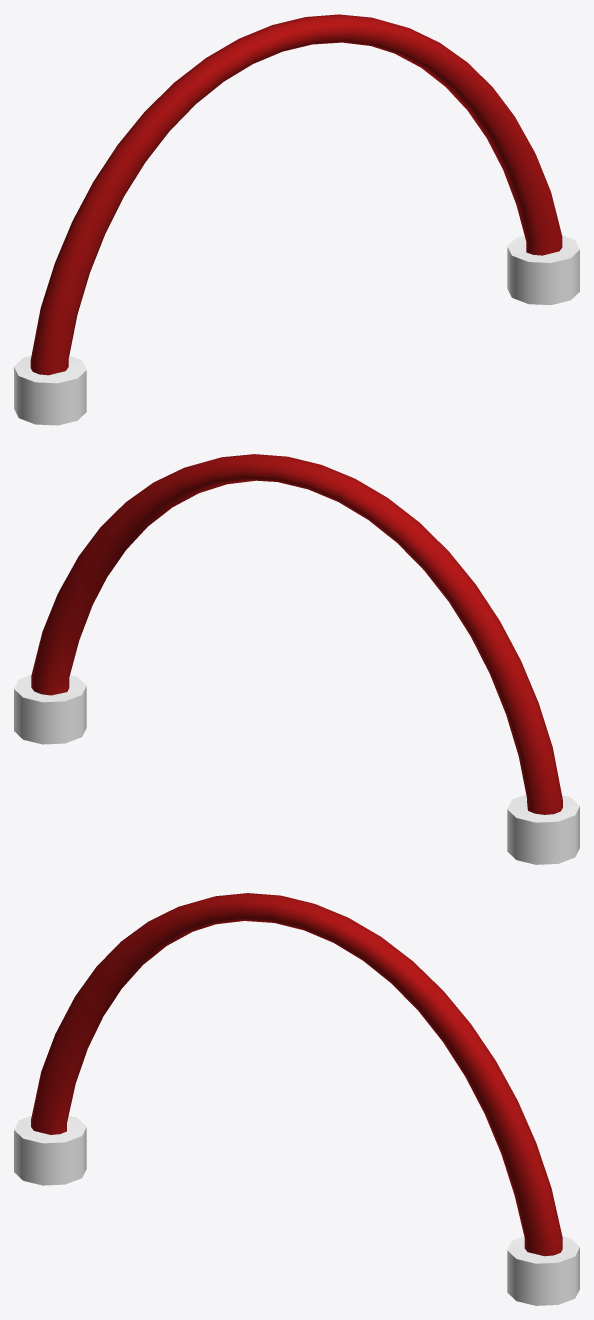
File: SM_ArchObstacle.fbx
3 renders of one model, top to bottom at view 1: azimuth 30°, elevation 25°; view 2: azimuth 150°, elevation 25°; view 3: azimuth 330°, elevation 25°, orthographic.
Parts seen in each view (by area): view 1: Cylinder002; view 2: Cylinder002; view 3: Cylinder002.
Boxes of the visible parts, x1,y1,x2,y2 form: Cylinder002: [14, 14, 579, 425]; Cylinder002: [14, 454, 579, 864]; Cylinder002: [14, 893, 579, 1305].
Size of the model in its own units: 112 by 62.95 by 12.1.
